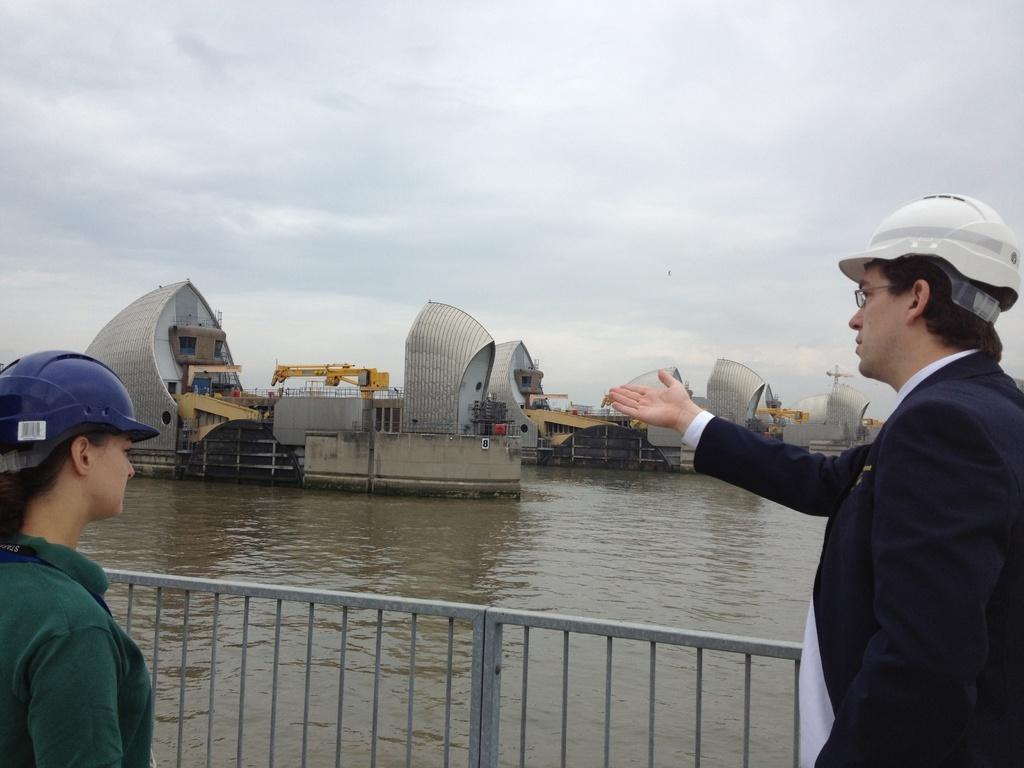helmet: (838, 193, 1021, 376), (0, 349, 161, 515)
